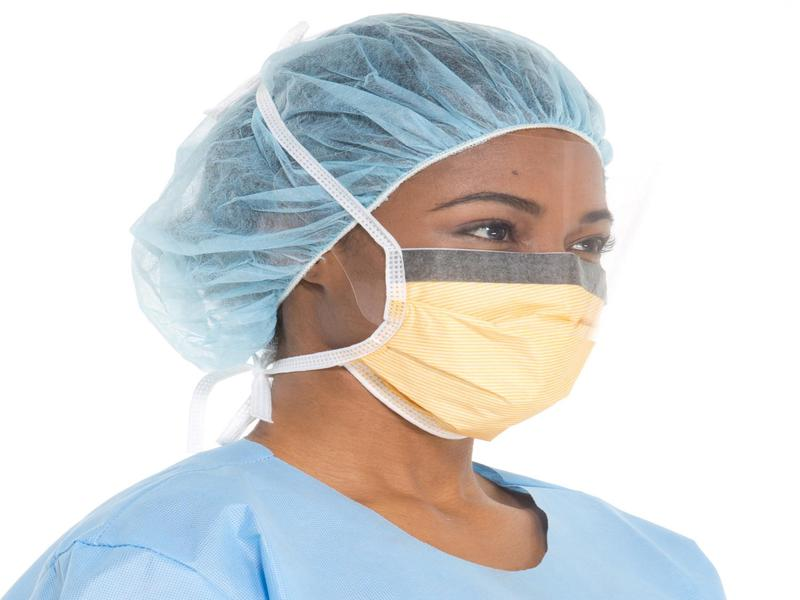with_mask: (191, 5, 616, 459)
